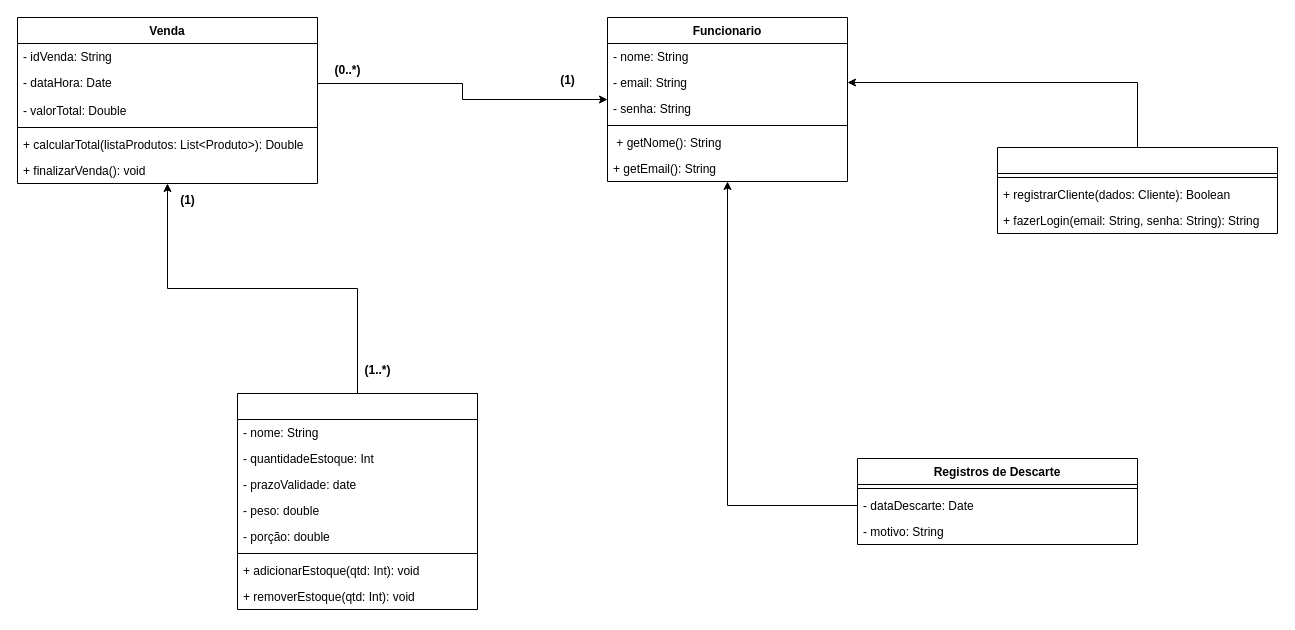
This 1295x630 diagram has some shape labels left out. The shapes that lost their labels are listed below. From the top down, each one's box as (x1, y1, x2, y2) in pixels, then its label:
(996, 146, 1278, 234): ServicoDeAutenticacao
(236, 392, 478, 610): Produto
